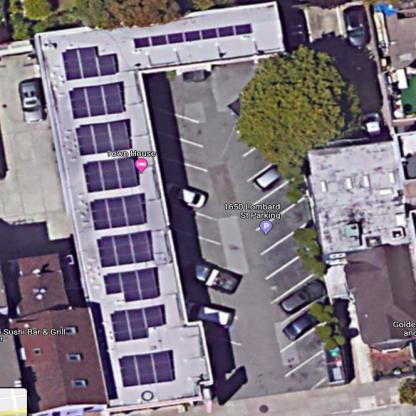car: (258, 273, 328, 317), (184, 253, 245, 296), (160, 174, 209, 216), (8, 79, 49, 128), (182, 298, 236, 333), (276, 309, 334, 341), (340, 1, 376, 49), (323, 332, 349, 389), (254, 163, 284, 193)
solar_panel: (127, 15, 268, 56), (59, 39, 123, 82), (102, 302, 167, 344), (113, 347, 179, 388), (84, 195, 157, 231), (76, 158, 148, 193), (63, 82, 130, 119), (91, 233, 162, 267), (72, 120, 136, 157), (100, 272, 168, 303)
